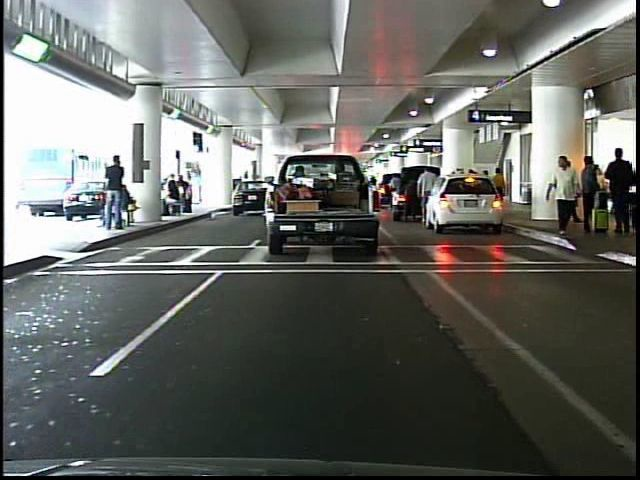person: (544, 145, 580, 239), (604, 147, 632, 236), (578, 152, 601, 240), (108, 152, 130, 233), (415, 161, 440, 229), (492, 163, 510, 217), (191, 168, 203, 210)
